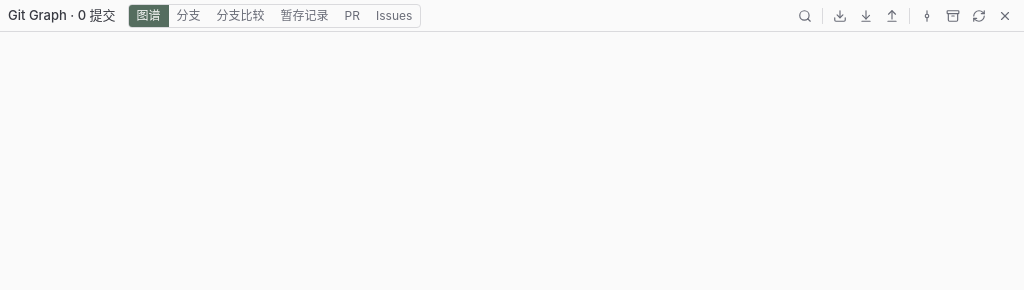
Test: 现有 Git 页面可以查看全部暂存记录并选择具体记录恢复或删除
Click the button "暂存记录" at (305, 16), box [273, 4, 337, 26]
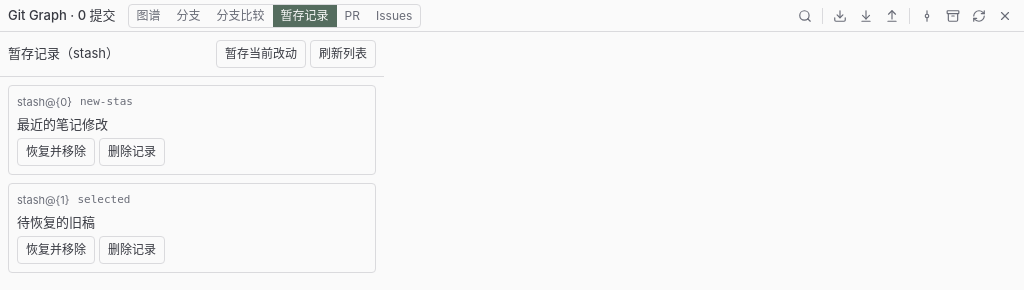
Result: the text "待恢复的旧稿" is shown at [17, 214, 95, 230]
Result: the number of buttons "恢复并移除" is 2 at [17, 138, 95, 166]; [17, 236, 95, 264]
Result: the number of buttons "删除记录" is 2 at [99, 138, 165, 166]; [99, 236, 165, 264]
